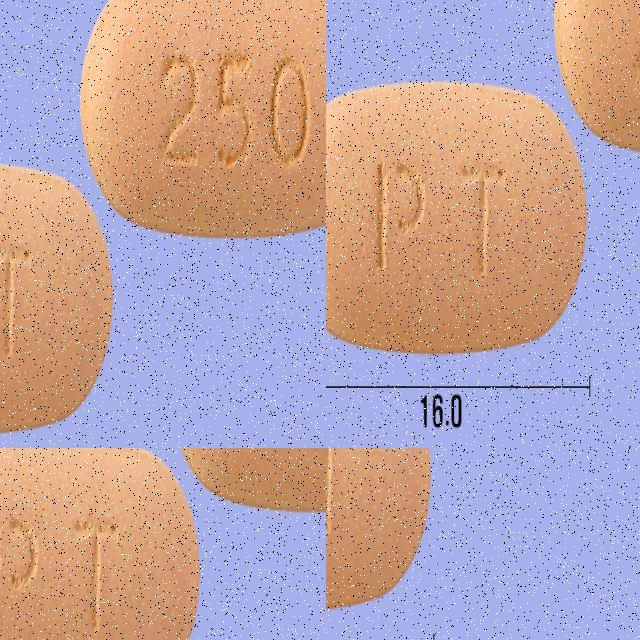Factive: (0, 524, 243, 640)
Heliclo Tab: (326, 71, 584, 354)
Lefloxa: (95, 0, 326, 435), (0, 0, 62, 438)
Uropenta Tab: (326, 448, 430, 611)
